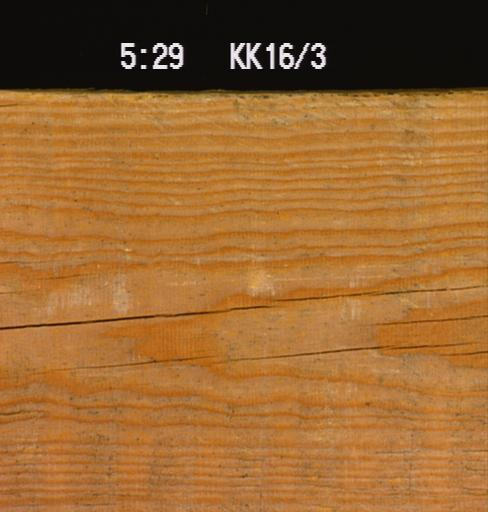split: (272, 282, 487, 303), (32, 352, 217, 373), (231, 342, 393, 360), (365, 311, 487, 327), (390, 337, 472, 350), (435, 346, 487, 356), (0, 404, 41, 416), (0, 98, 20, 107)
